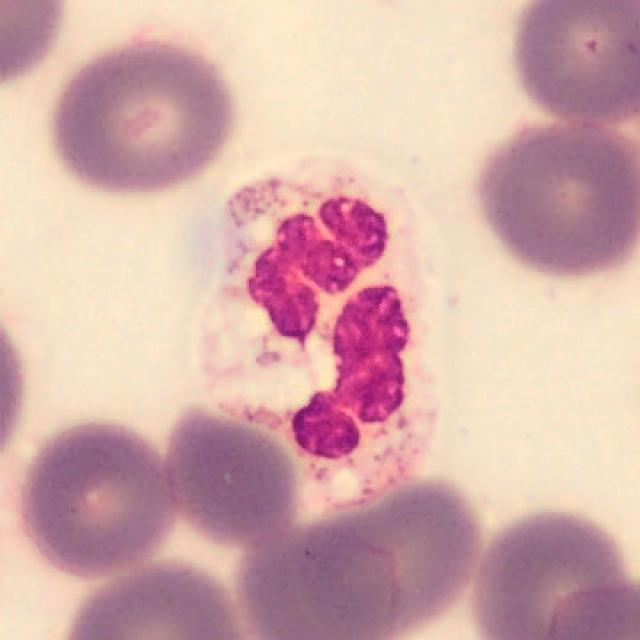Neutrofilo segmentado: (197, 151, 443, 517)
